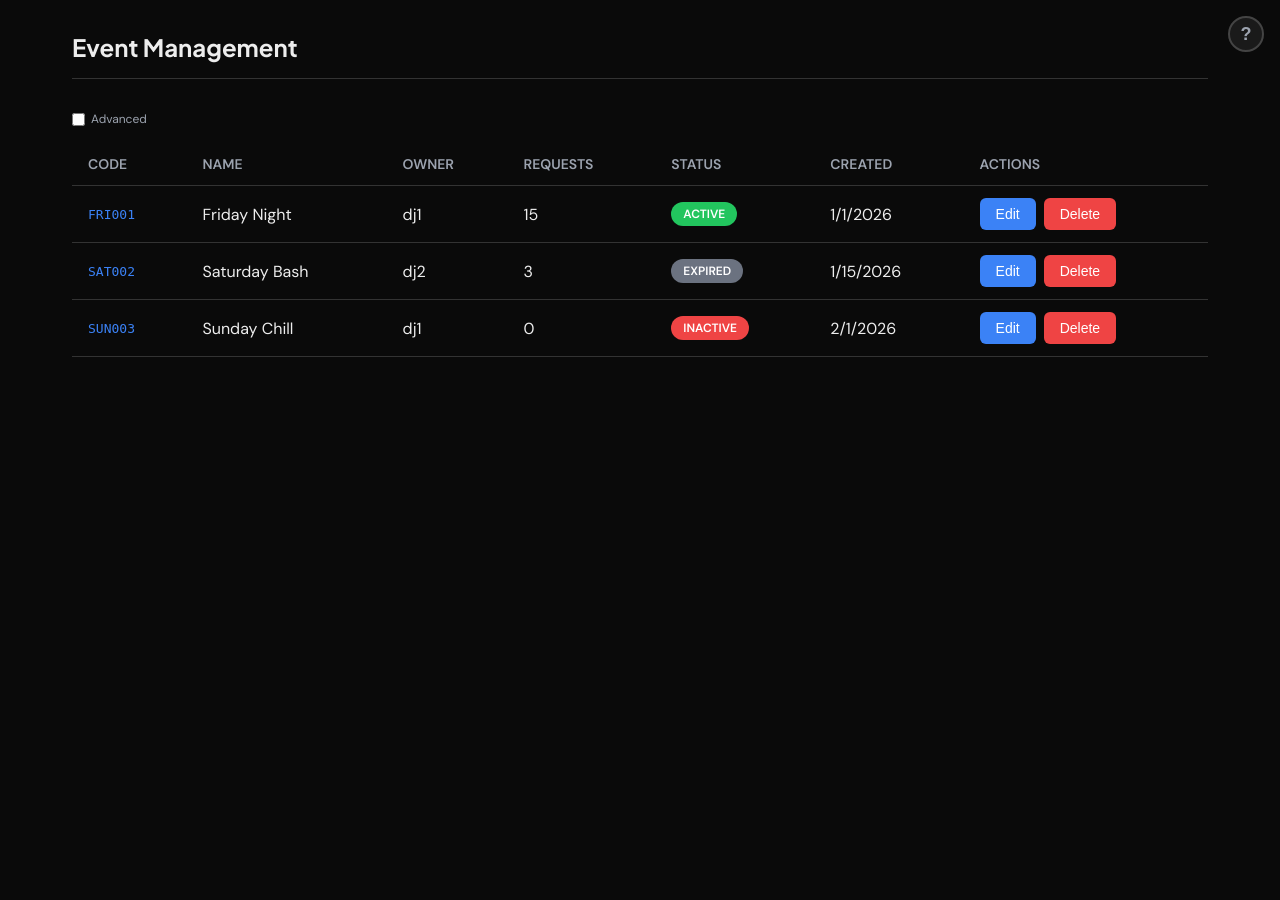
Test case: AdminEventsPage › cancels edit modal
Expected: the text "Friday Night" is shown, [186,186,387,242]
Click the button "Edit" in the row of "FRI001" at (1008, 214), box [980,198,1036,230]
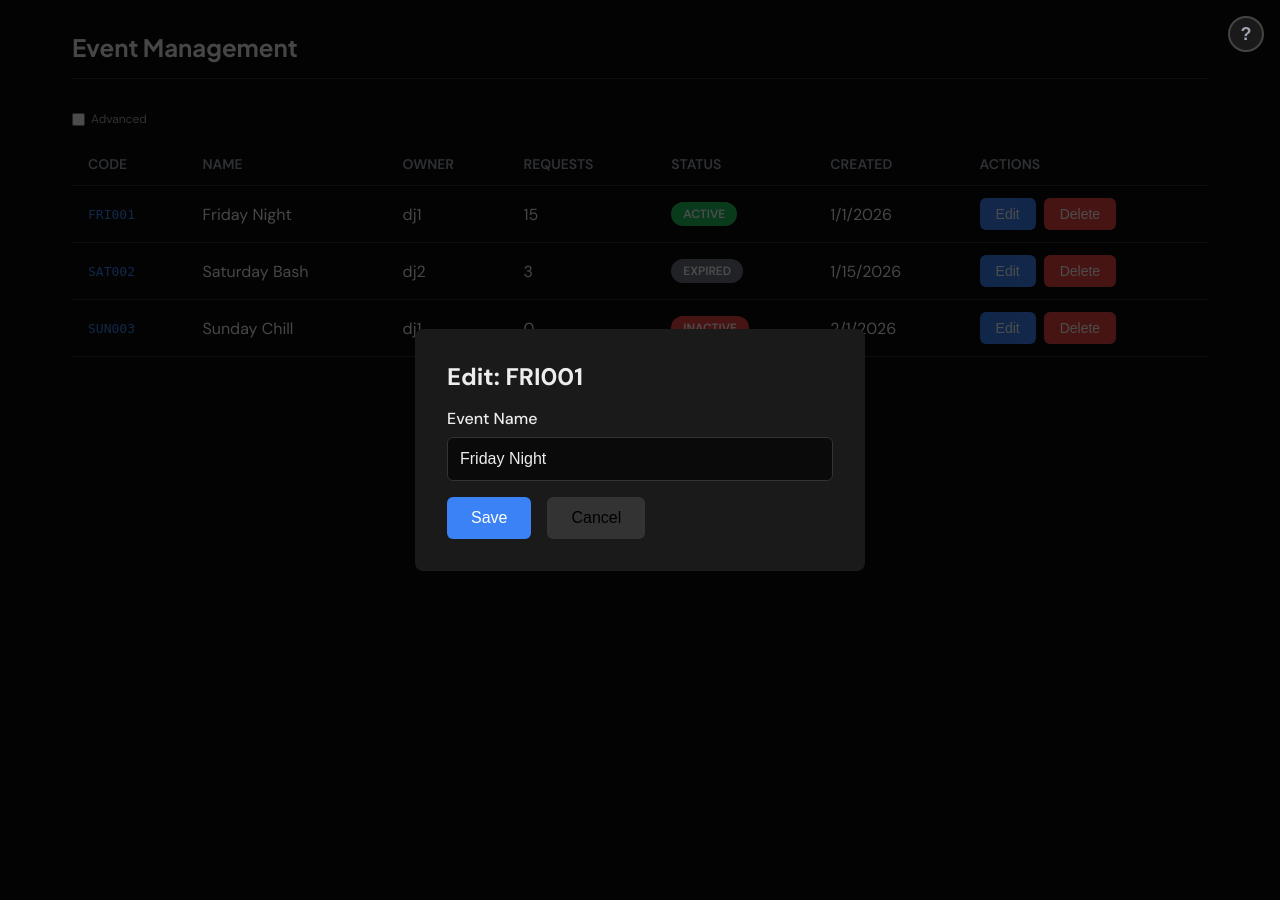
Now the heading "Edit: FRI001" is shown, box [447,361,583,392]
Click the button "Cancel" at (596, 518), box [548,497,645,539]
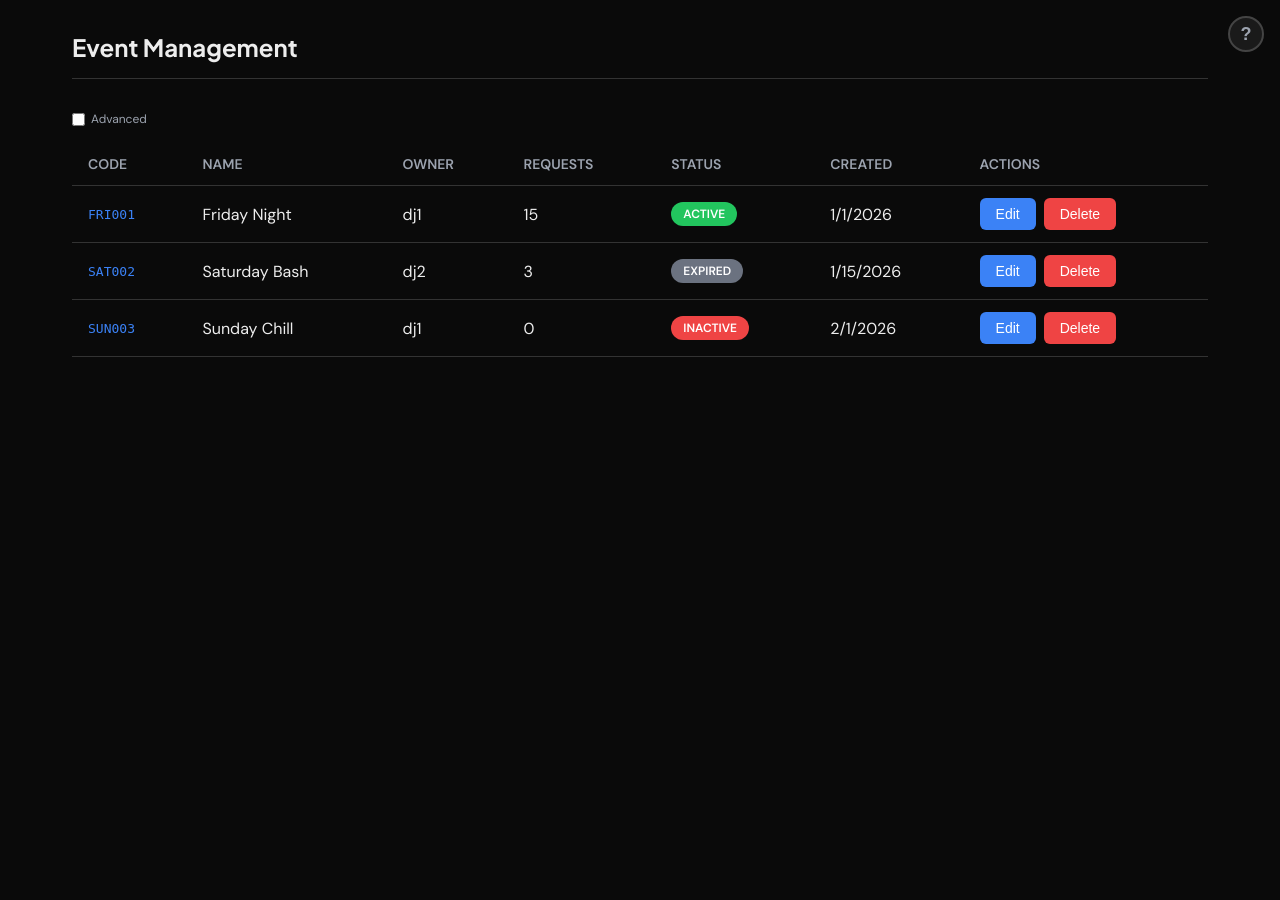
Now the heading "Edit: FRI001" is gone
